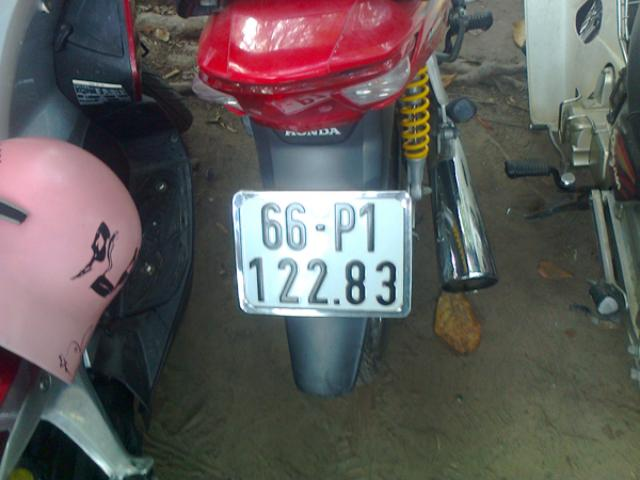plate: (236, 193, 409, 317)
